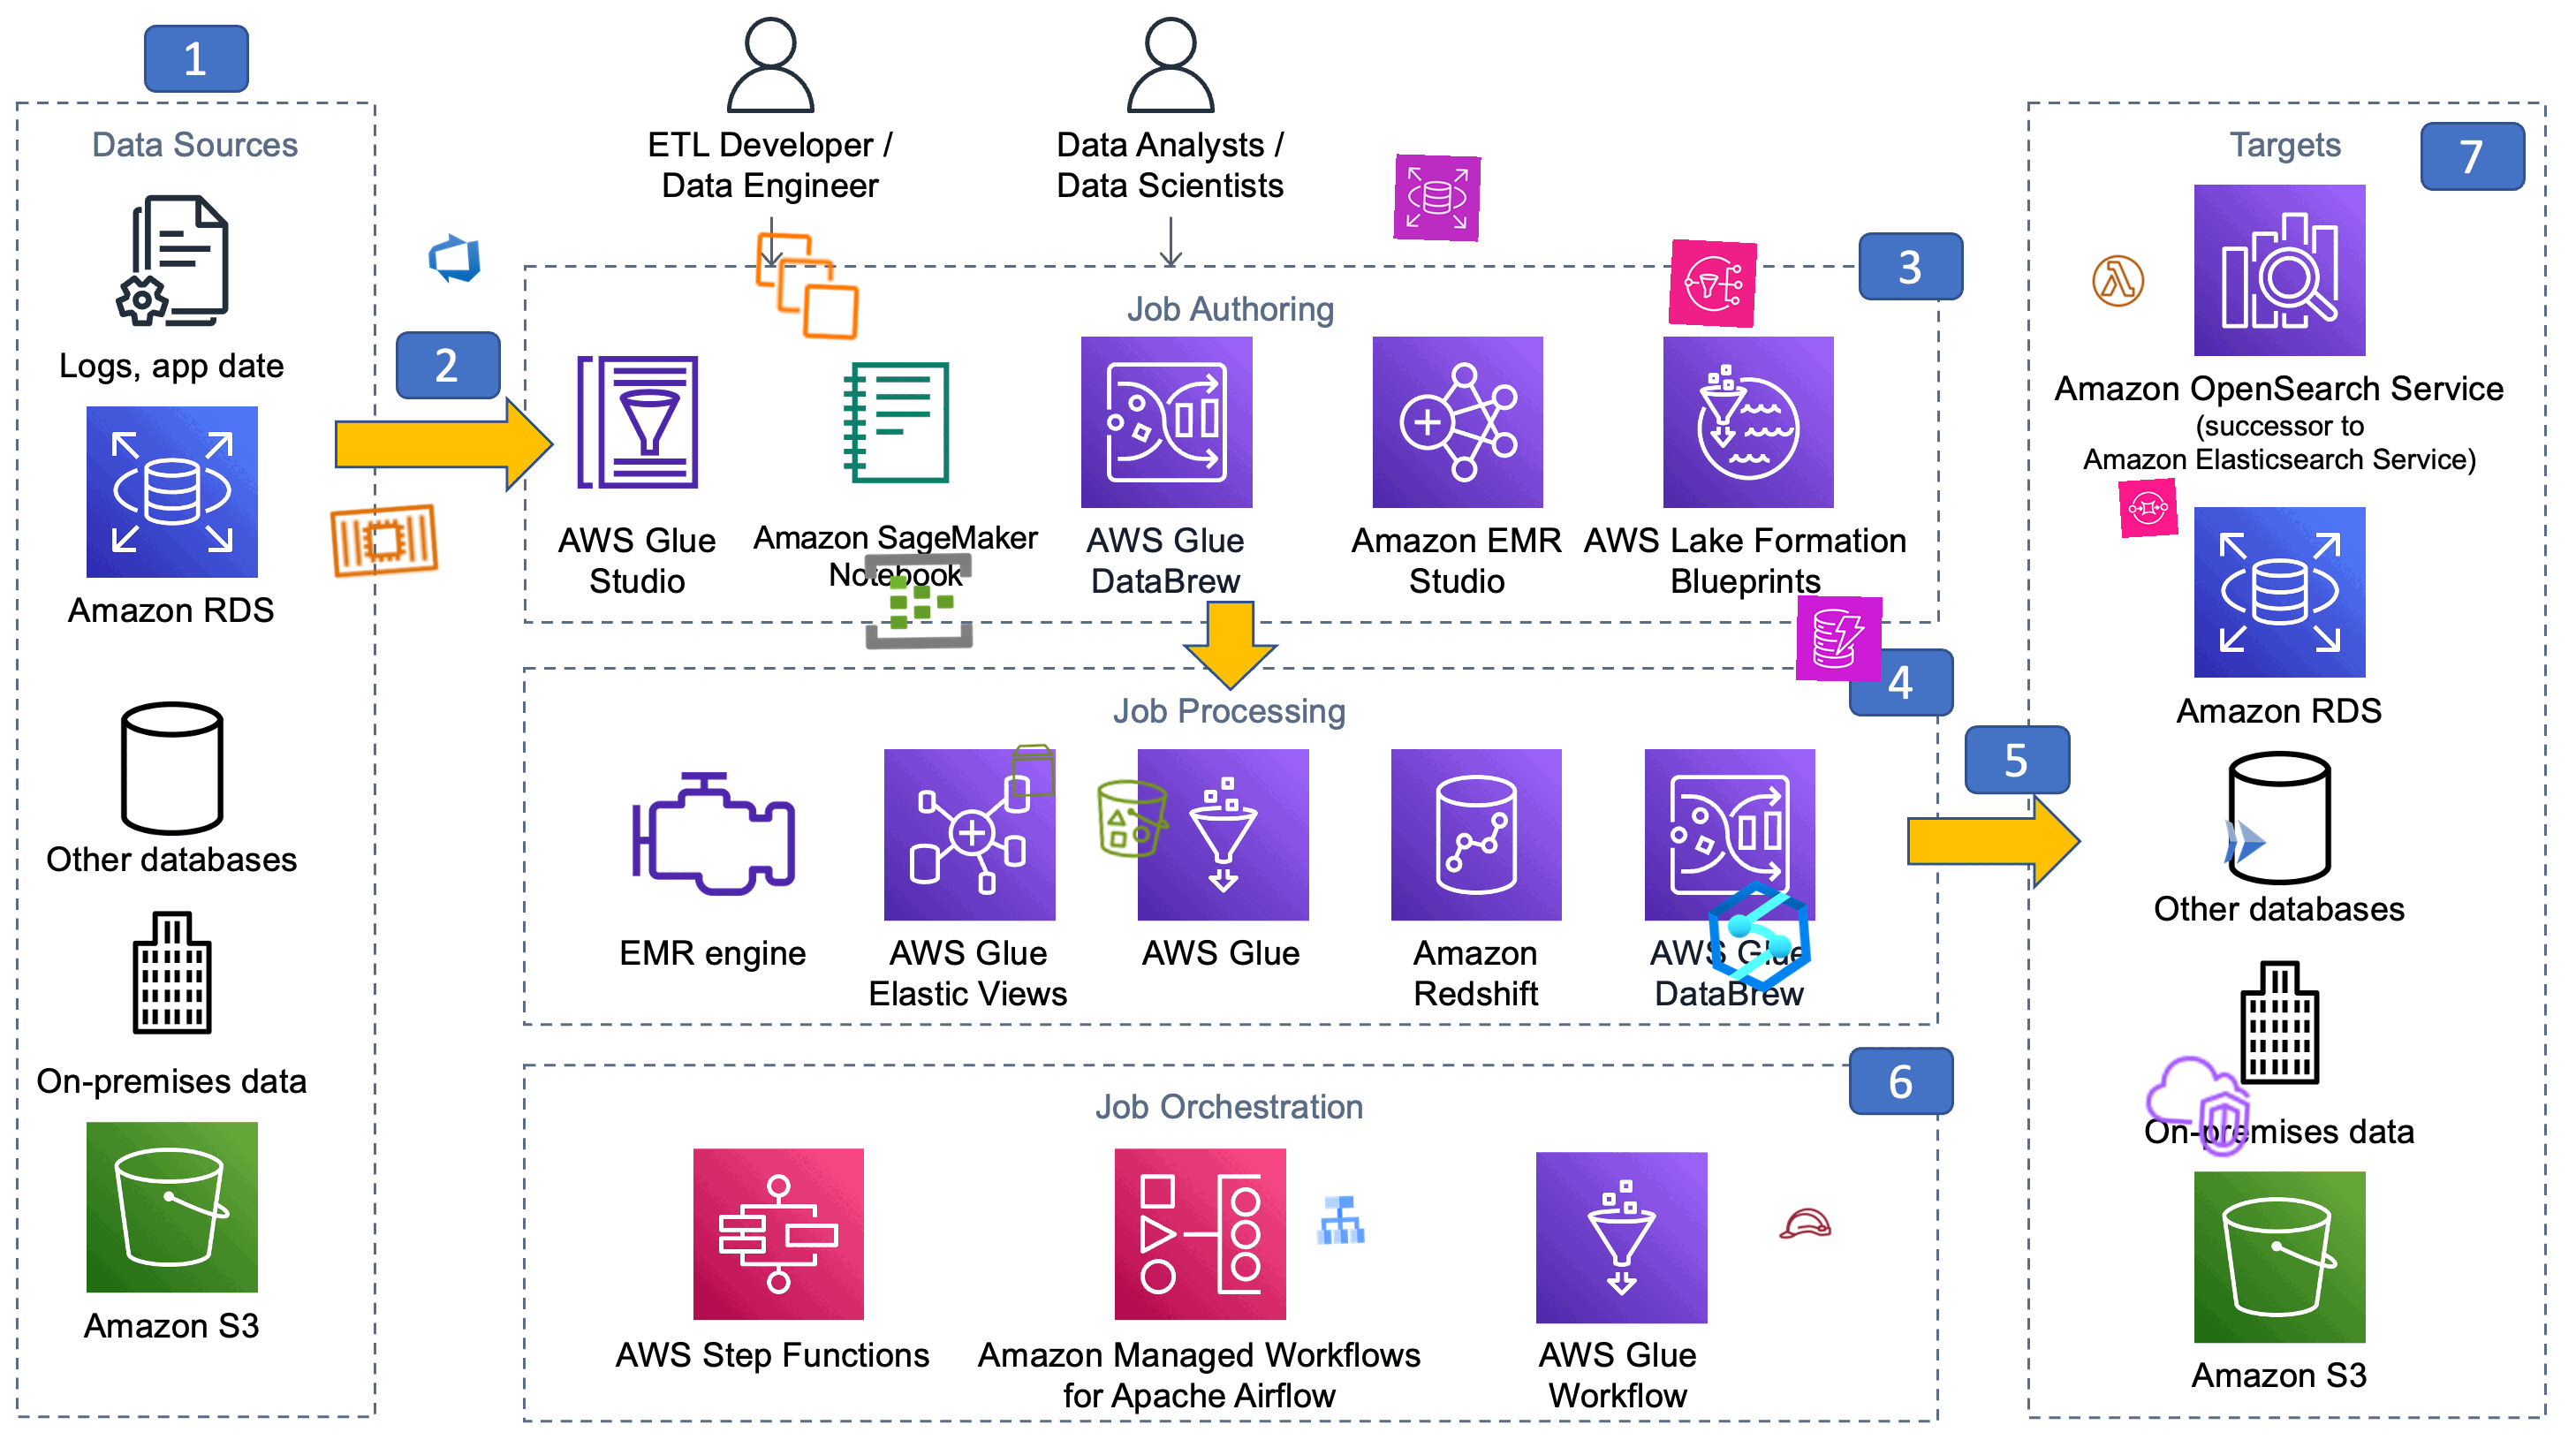aws_amazon_dynamodb: (1796, 596, 1882, 683)
aws_amazon_rds: (1392, 154, 1481, 242)
aws_amazon_simple_notification_service: (1668, 239, 1759, 329)
aws_amazon_simple_queue_service: (2118, 478, 2178, 538)
aws_ec2_instances: (748, 226, 867, 345)
aws_elastic_block_store_volume: (1003, 739, 1063, 800)
aws_elastic_container_service_container_2: (324, 479, 446, 601)
aws_identity_access_management_role: (1775, 1194, 1835, 1254)
aws_lambda_lambda_function: (2089, 251, 2148, 310)
aws_simple_storage_service_bucket_with_objects: (1086, 773, 1178, 865)
aws_vpc_virtual_private_cloud_vpc: (2137, 1046, 2258, 1166)
azure_devops: (423, 226, 485, 288)
azure_event_hubs: (862, 543, 977, 658)
azure_synapse_analytics: (1698, 876, 1821, 998)
gcp_cloud_load_balancing: (1309, 1191, 1369, 1251)
gcp_cloud_run: (2215, 812, 2273, 870)
